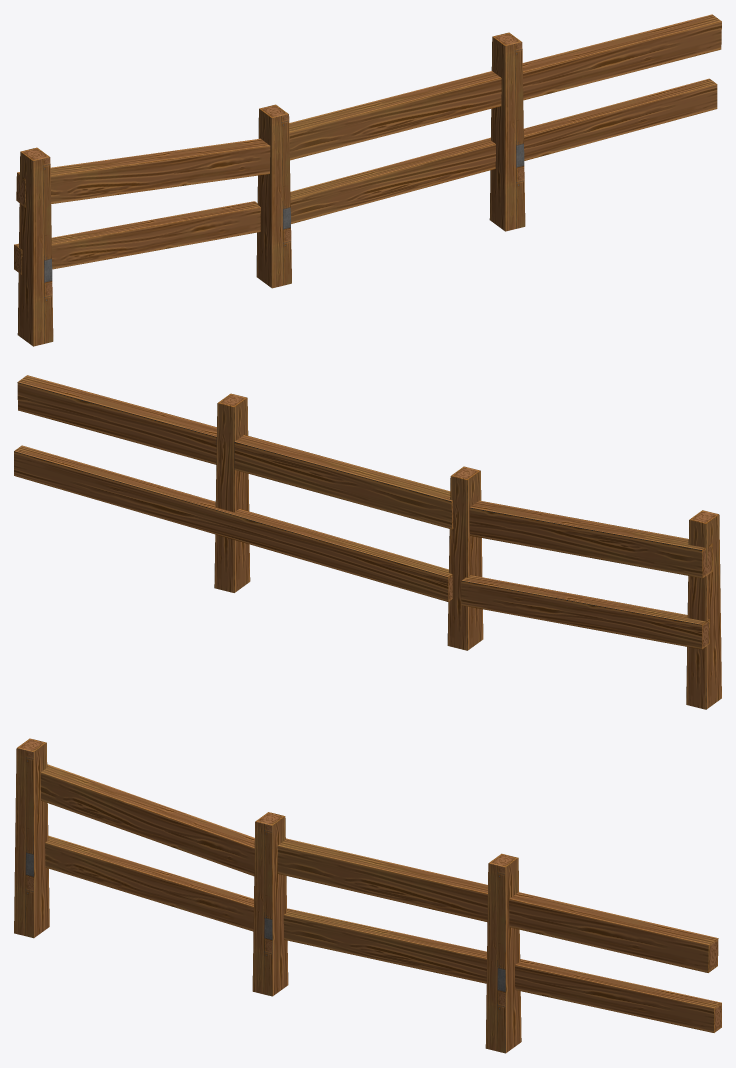
3 views of the same model, one above another, from view 1: azimuth 30°, elevation 25°; view 2: azimuth 150°, elevation 25°; view 3: azimuth 330°, elevation 25° (orthographic).
Parts seen in each view (by area): view 1: Cube.2037; view 2: Cube.2037; view 3: Cube.2037.
Part boxes in pixels (bbox=[...]): Cube.2037: bbox=[14, 14, 721, 346]; Cube.2037: bbox=[14, 375, 721, 709]; Cube.2037: bbox=[14, 738, 721, 1053].
Size of the model in its own units: 517 by 132 by 26.6.
Materials: 1 (1 with a texture image).
